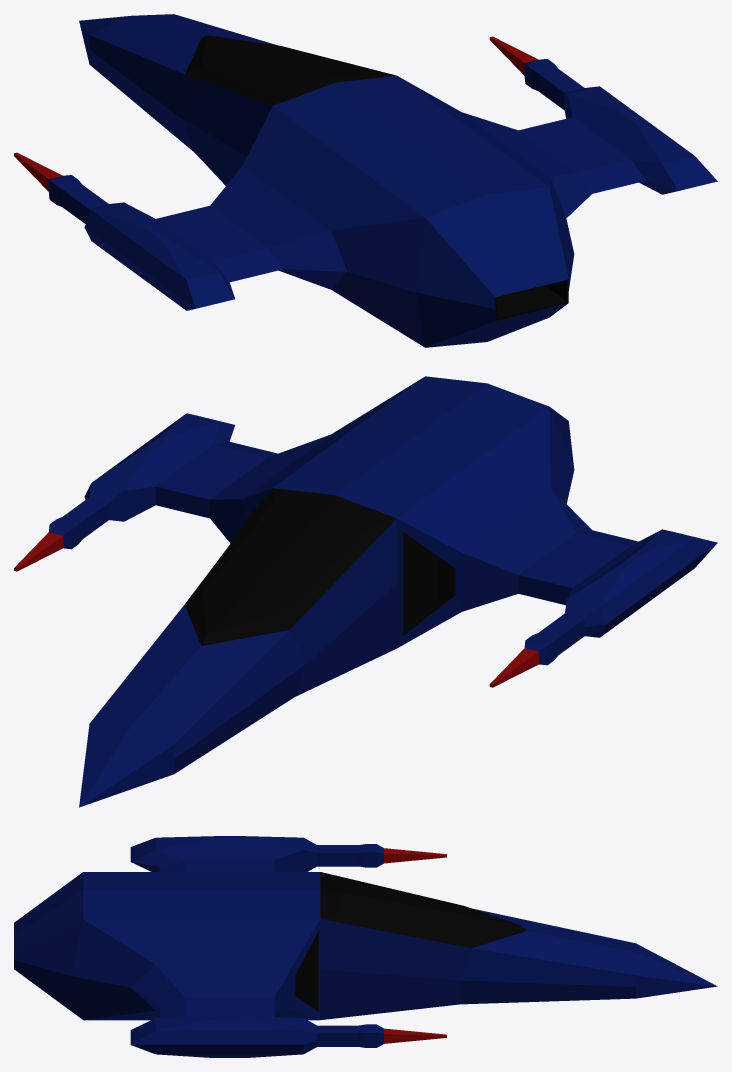
The model's file is ship.fbx.
3 renders of one model, top to bottom at view 1: azimuth 30°, elevation 25°; view 2: azimuth 150°, elevation 25°; view 3: azimuth 270°, elevation 25°, orthographic. The views are drawn at different scales.
Parts seen in each view (by area): view 1: Cube; view 2: Cube; view 3: Cube.
Part boxes in pixels (left/top/right/bottom): Cube: left=14, top=14, right=717, bottom=347; Cube: left=14, top=376, right=717, bottom=807; Cube: left=14, top=836, right=717, bottom=1057.
Bounding box in the file's own units: 840 × 227 × 1262.
